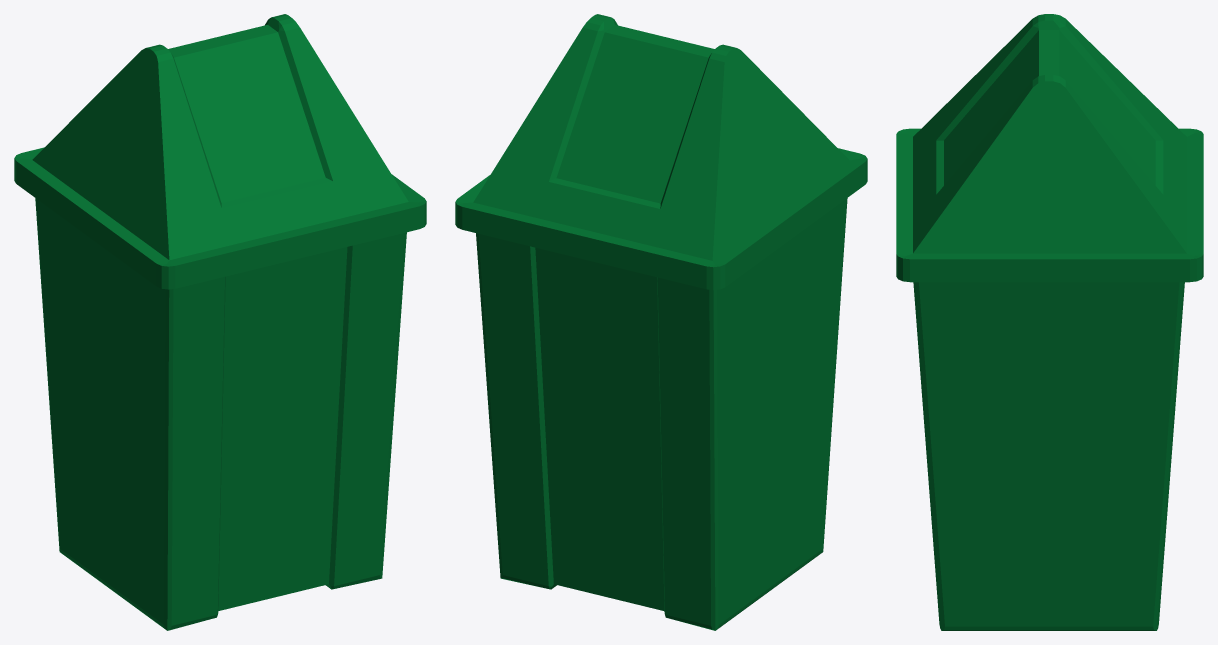
The model's file is Vidro.fbx.
3 views of the same model, side by side, from view 1: azimuth 30°, elevation 25°; view 2: azimuth 150°, elevation 25°; view 3: azimuth 270°, elevation 25° (orthographic).
Parts seen in each view (by area): view 1: lixo.001; view 2: lixo.001; view 3: lixo.001.
Boxes of the visible parts, x1,y1,x2,y2 form: lixo.001: (14,14,426,630); lixo.001: (455,14,867,630); lixo.001: (896,14,1203,630).
Size of the model in its own units: 238 by 237 by 451.
